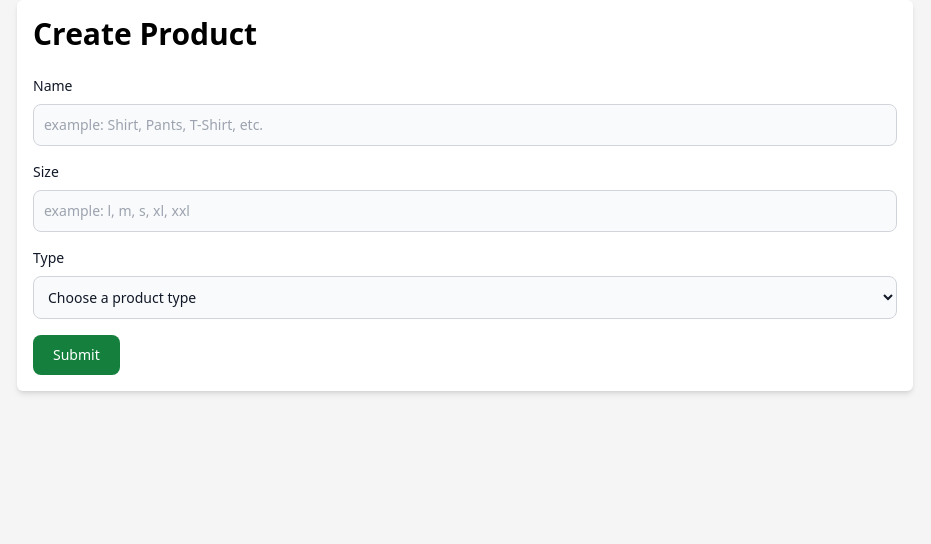
it: when the user submits the form without values for fields › should display validation error messages
The width and height of the screenshot is (931, 544).
Expected: the text "name is required" is not shown
Expected: the text "size is required" is not shown
Click the button "Submit".
click(76, 355)  # box [33,335,120,375]
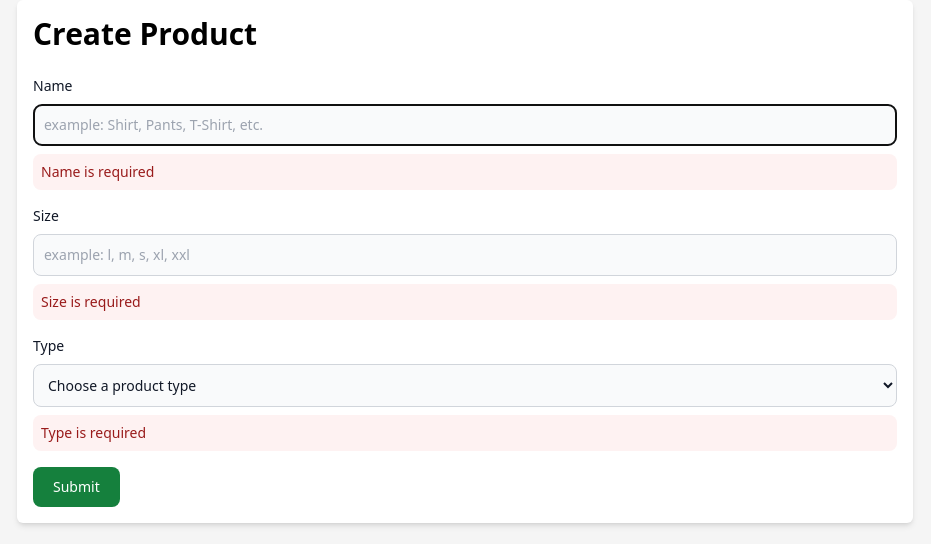
Expected: the text "Name is required" is shown, [41,162,154,181]
Expected: the text "Size is required" is shown, [41,292,141,311]
